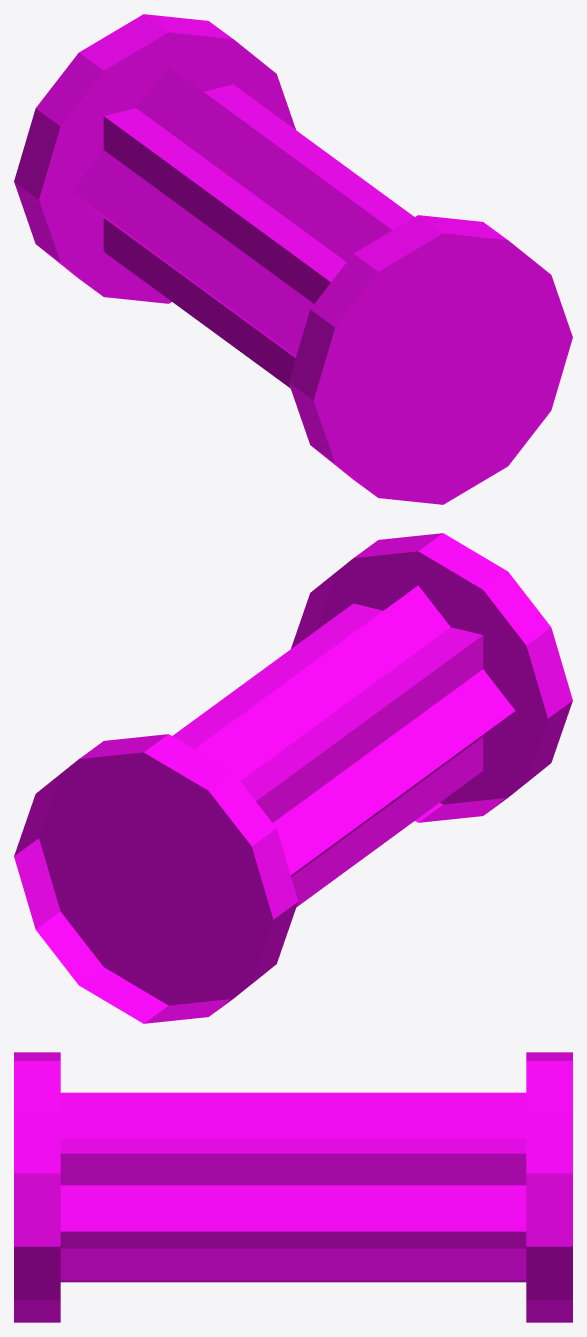
The model's file is marblepillar.obj.
The picture shows the model from 3 angles, top to bottom: view 1: azimuth 30°, elevation 25°; view 2: azimuth 150°, elevation 25°; view 3: azimuth 270°, elevation 25°; orthographic projection. The views are drawn at different scales.
Visible parts, largest first — view 1: marblepillar; view 2: marblepillar; view 3: marblepillar.
Part boxes in pixels (x1,y1,x2,y2): marblepillar: (14, 14, 572, 504); marblepillar: (14, 533, 572, 1023); marblepillar: (14, 1052, 572, 1322).
Size of the model in its own units: 0.96 by 0.96 by 1.92.
